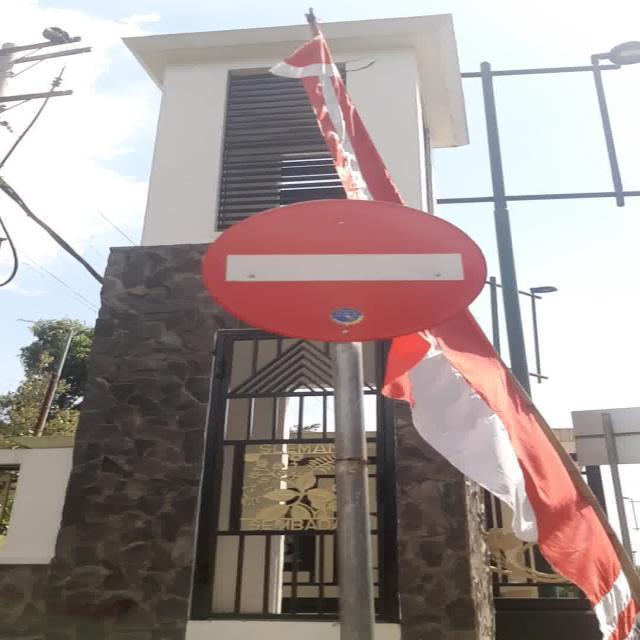Dilarang Masuk: (202, 199, 490, 342)
